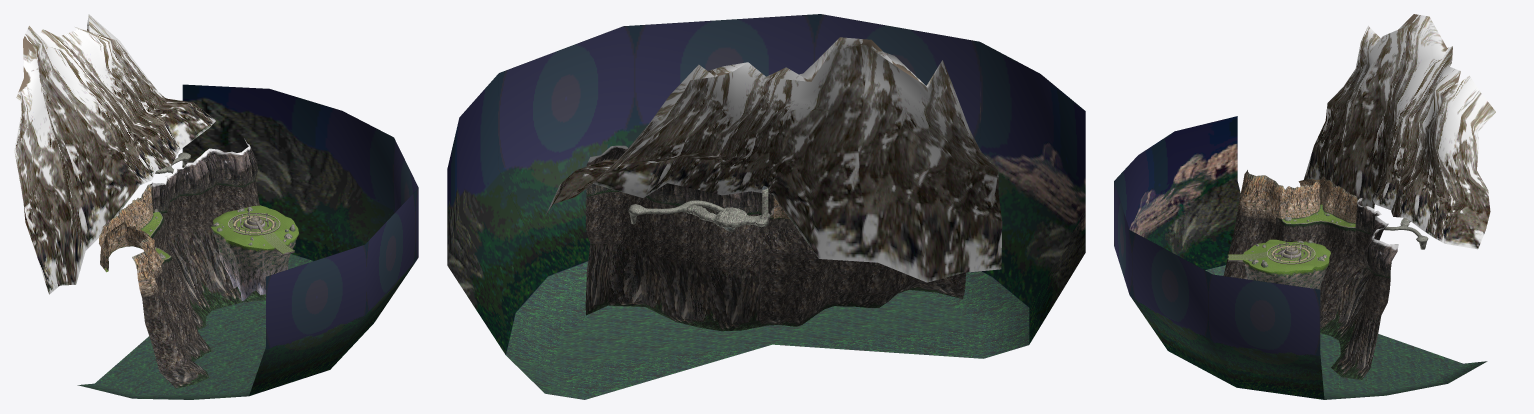
Rendered from Angel.glb.
3 renders of one model, left to right at view 1: azimuth 30°, elevation 25°; view 2: azimuth 150°, elevation 25°; view 3: azimuth 270°, elevation 25°, orthographic. The views are drawn at different scales.
Parts seen in each view (by area): view 1: MRAngelIsland; view 2: MRAngelIsland; view 3: MRAngelIsland.
Part boxes in pixels (left/top/right/bottom): MRAngelIsland: left=14, top=14, right=418, bottom=399; MRAngelIsland: left=447, top=14, right=1085, bottom=399; MRAngelIsland: left=1114, top=14, right=1495, bottom=399.
Size of the model in its own units: 167 by 121 by 164.
Materials: 260 (260 with a texture image).
